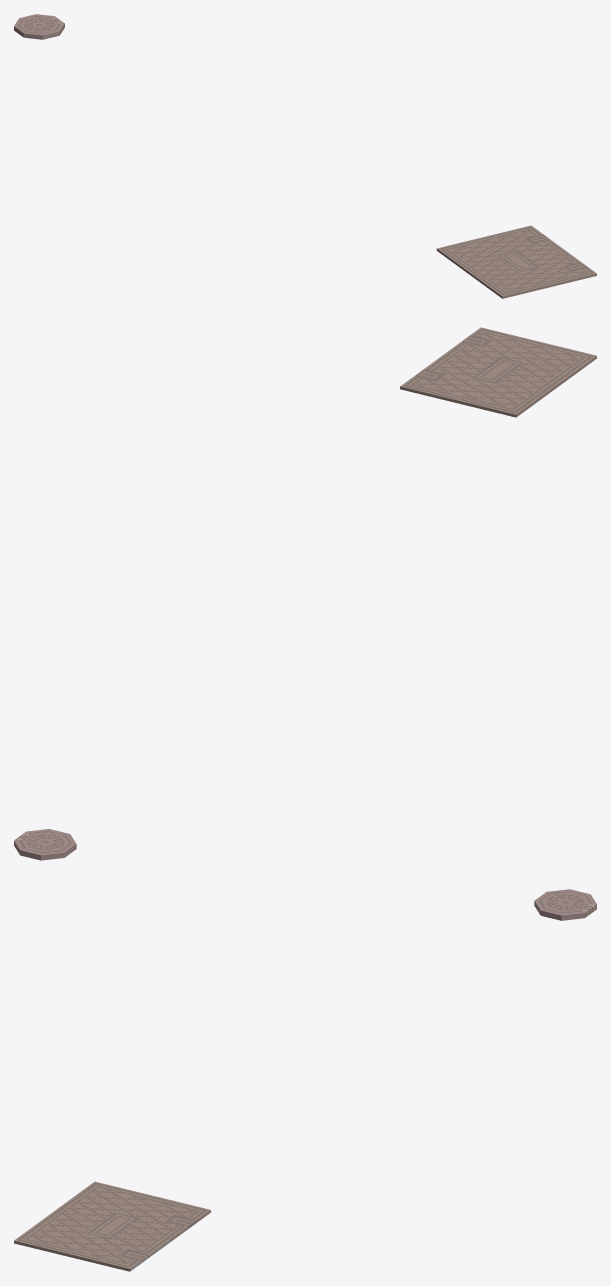
File: kd_stage_135d18_1_1_bounded.glb
3 renders of one model, top to bottom at view 1: azimuth 30°, elevation 25°; view 2: azimuth 150°, elevation 25°; view 3: azimuth 330°, elevation 25°, orthographic. The views are drawn at different scales.
Visible parts, largest first — view 1: kd_stage_135d18_1_1_bounded; view 2: kd_stage_135d18_1_1_bounded; view 3: kd_stage_135d18_1_1_bounded.
Boxes of the visible parts, x1=… form: kd_stage_135d18_1_1_bounded: x1=14, y1=14, x2=596, y2=298; kd_stage_135d18_1_1_bounded: x1=14, y1=327, x2=596, y2=860; kd_stage_135d18_1_1_bounded: x1=14, y1=889, x2=596, y2=1271.
Size of the model in its own units: 0.5493 by 0.2777 by 3.65.
Materials: 1 (1 with a texture image).
